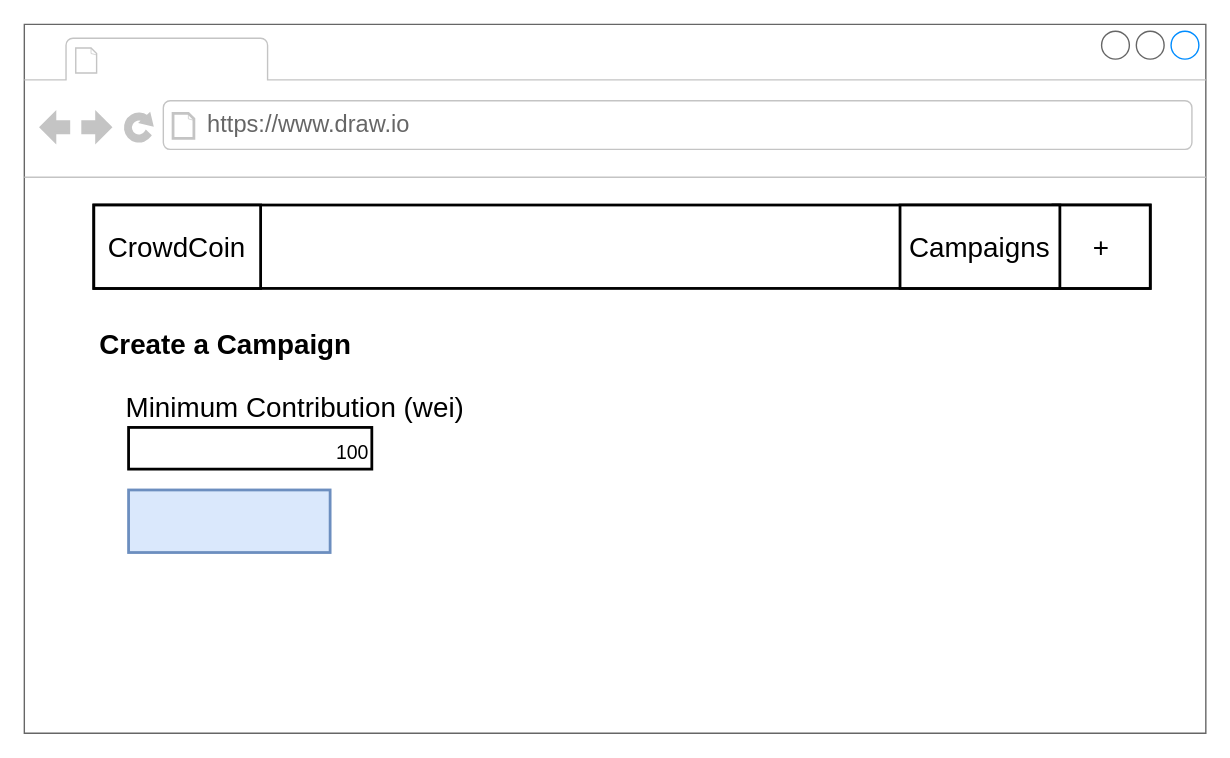
Image size: 1230x758. Some labels were removed from this diagram. Each missing label, with the box of its shape:
Create: (126, 488, 331, 553)
Page 1: (106, 40, 261, 77)
